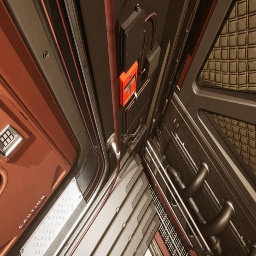FireAlarm ,: (119, 60, 138, 107)
